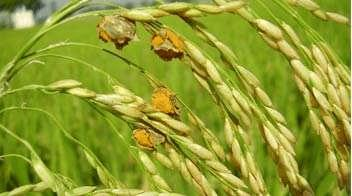False Smut: (96, 11, 144, 50), (148, 24, 187, 67), (152, 83, 184, 121), (134, 124, 170, 154)
